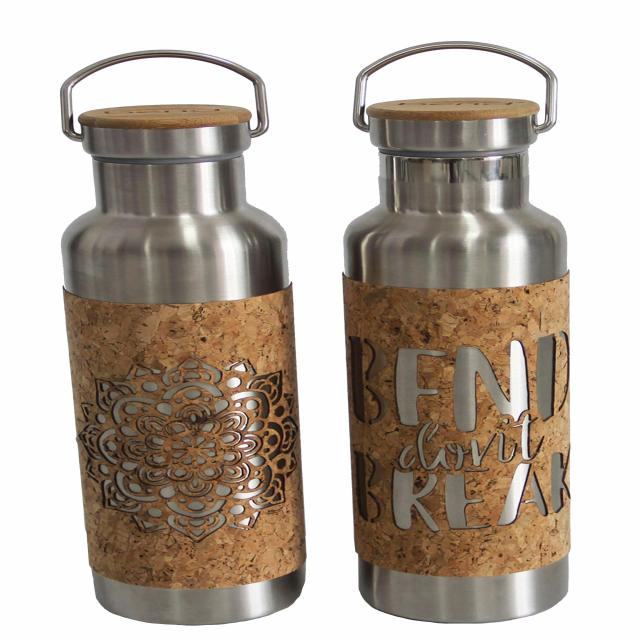gym bottle: (52, 42, 310, 628), (334, 37, 576, 628)
